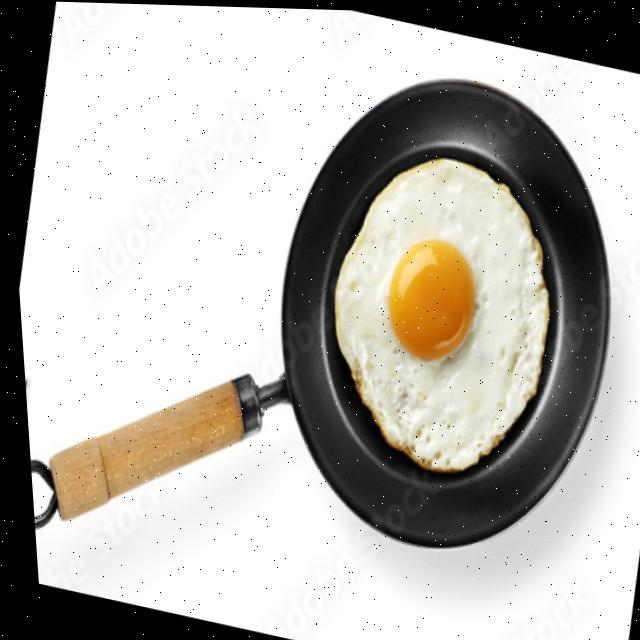Egg: (330, 155, 545, 469)
